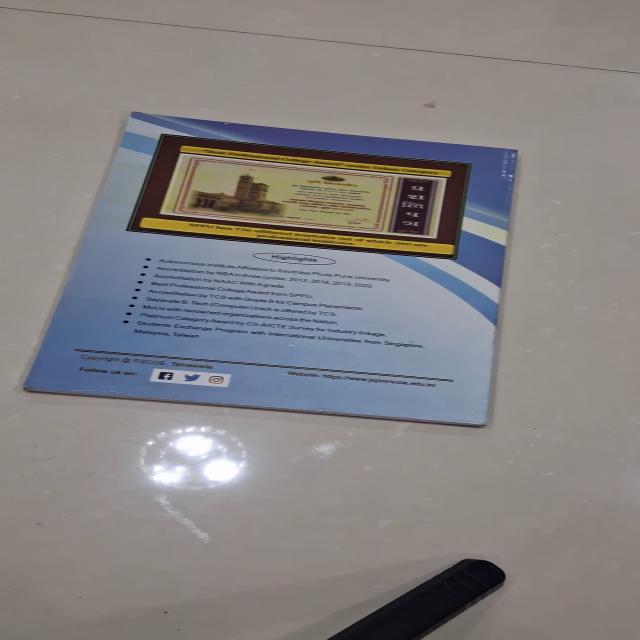paper: (21, 110, 518, 427)
